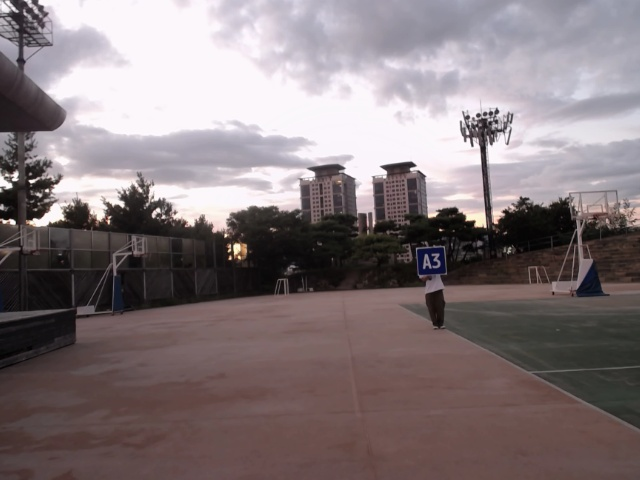delivery_a3: (416, 247, 446, 275)
